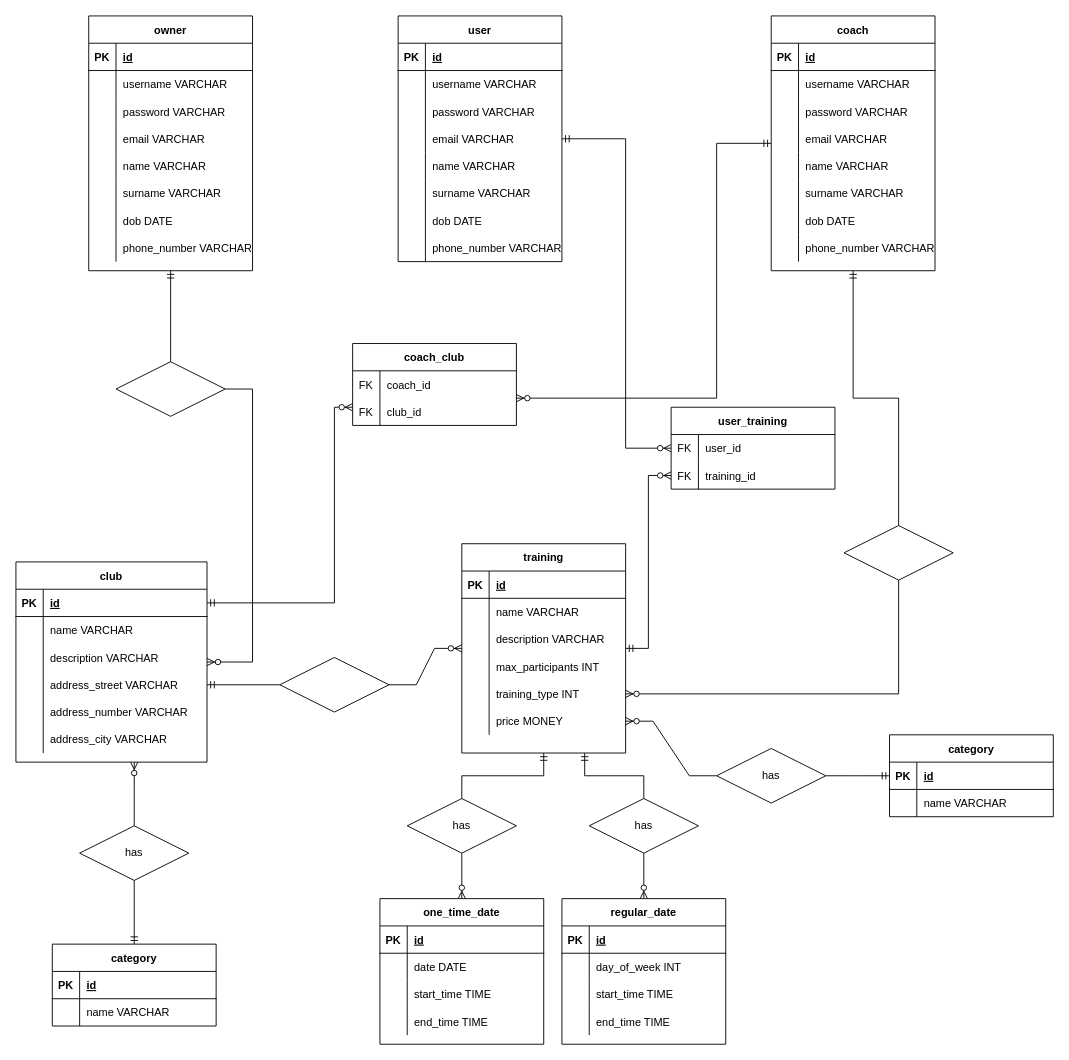
Some shapes in this 1069 by 1060 pixel diagram are drawn without their labels. Each missing label, with the centre of its shape:
conduct: (898,552)
offers: (334,684)
owns: (170,388)
